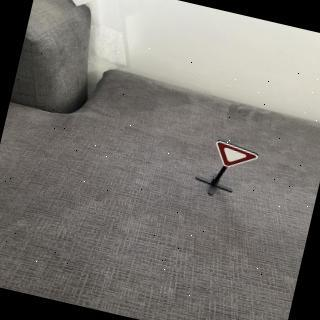sign_yield: (212, 138, 263, 175)
